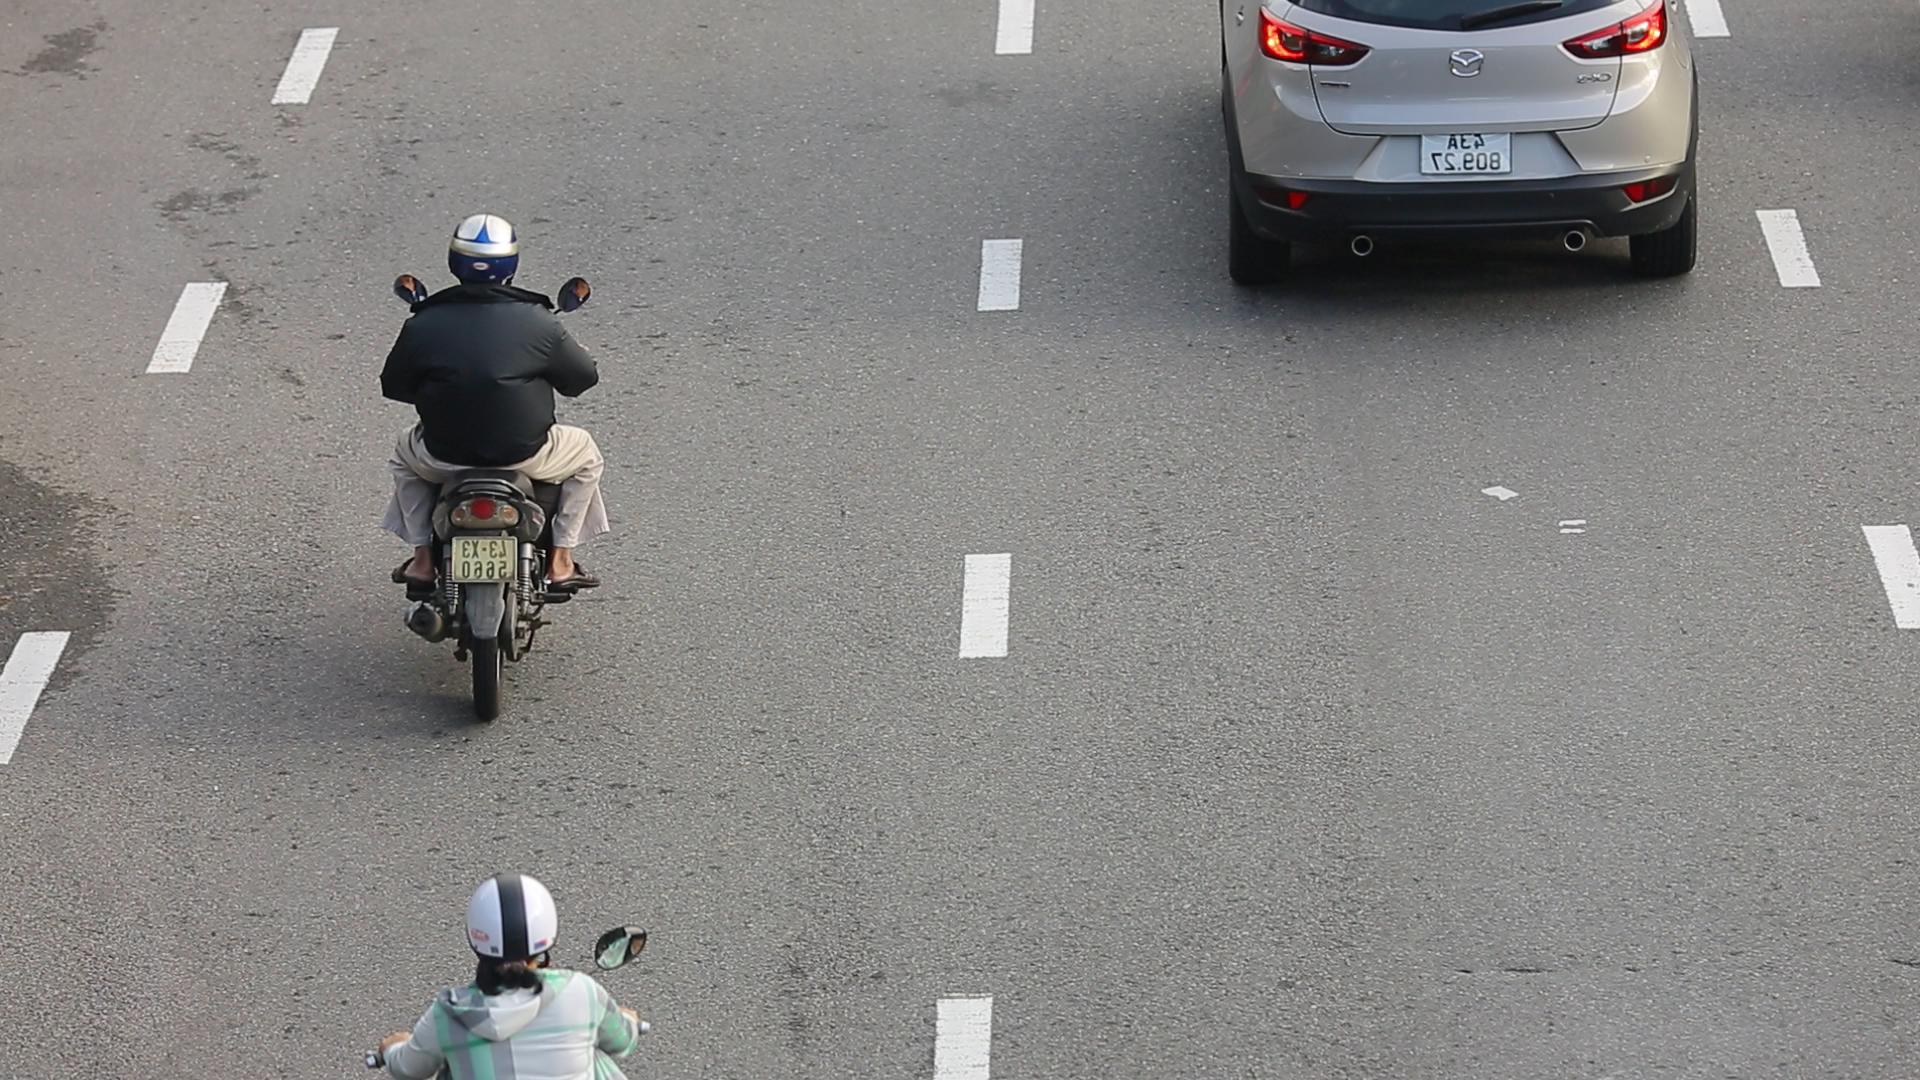motobike: (377, 199, 617, 724)
